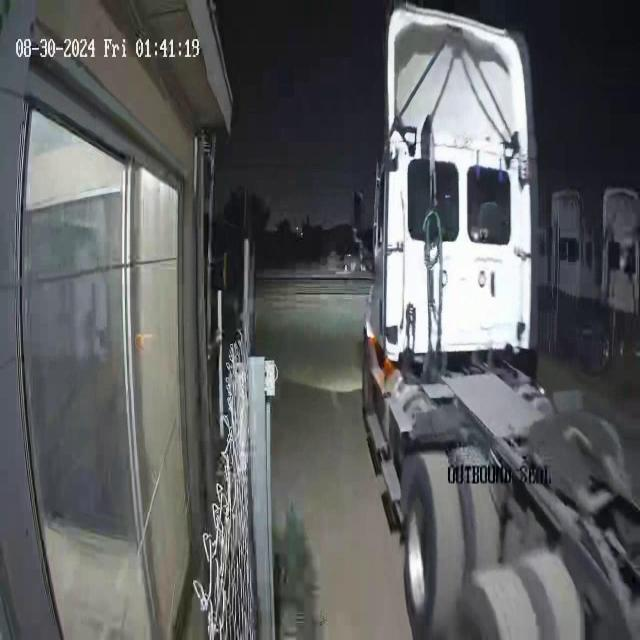TRUCK_OUT: (361, 4, 639, 638)
